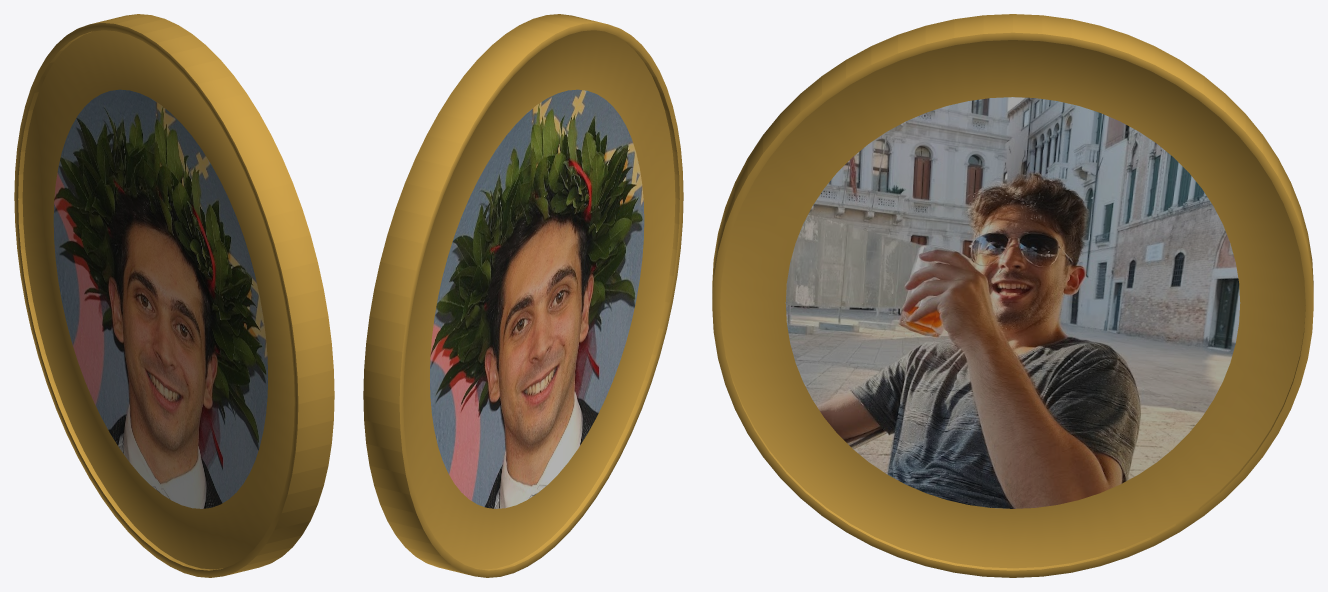
File: coin.new.obj
3 views of the same model, side by side, from view 1: azimuth 30°, elevation 25°; view 2: azimuth 150°, elevation 25°; view 3: azimuth 270°, elevation 25° (orthographic). The views are drawn at different scales.
Parts seen in each view (by area): view 1: Cylinder_Cylinder.001; view 2: Cylinder_Cylinder.001; view 3: Cylinder_Cylinder.001.
Part boxes in pixels (bbox=[...]): Cylinder_Cylinder.001: bbox=[14, 14, 334, 577]; Cylinder_Cylinder.001: bbox=[363, 14, 683, 577]; Cylinder_Cylinder.001: bbox=[712, 14, 1313, 577].
Bounding box in the file's own units: 0.3388 × 4.6 × 4.6.
3 materials, 2 textured.
